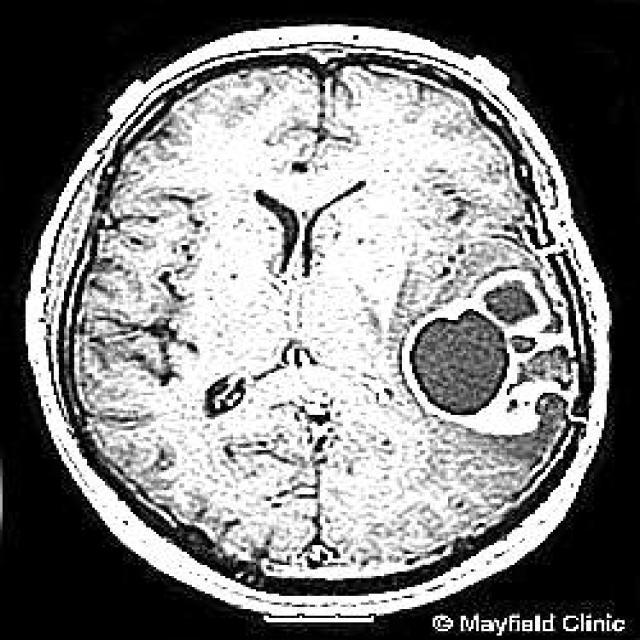brain tumor: (381, 232, 581, 433)
